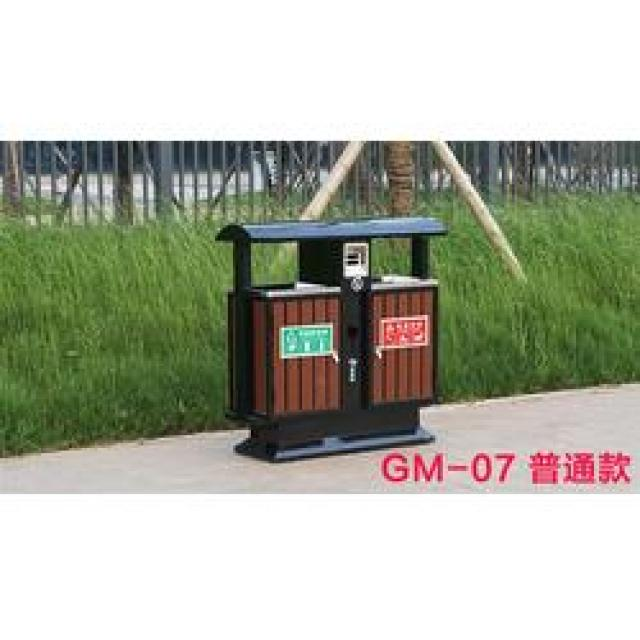garbage_bin: (212, 215, 443, 461)
